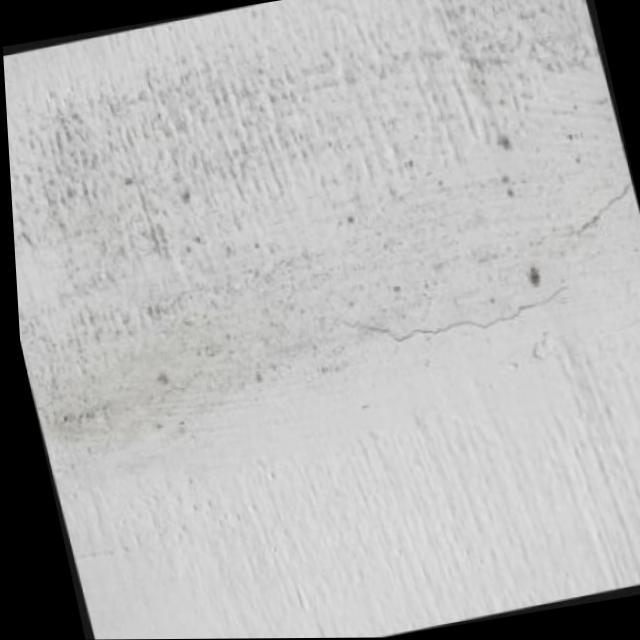Crack: (341, 291, 576, 342)
